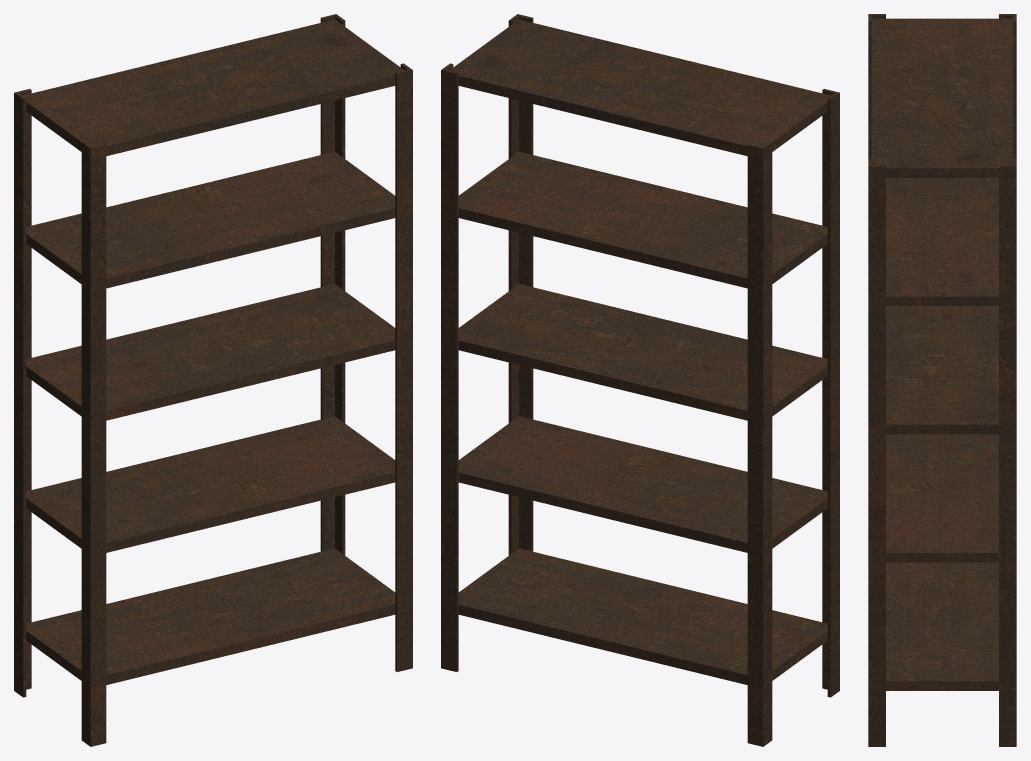
Rendered from shelf_mx_5.obj.
3 renders of one model, left to right at view 1: azimuth 30°, elevation 25°; view 2: azimuth 150°, elevation 25°; view 3: azimuth 270°, elevation 25°, orthographic. The views are drawn at different scales.
Visible parts, largest first — view 1: shelf_mx_5; view 2: shelf_mx_5; view 3: shelf_mx_5.
Boxes of the visible parts, x1=… form: shelf_mx_5: x1=14, y1=14, x2=412, y2=746; shelf_mx_5: x1=441, y1=14, x2=839, y2=746; shelf_mx_5: x1=868, y1=14, x2=1016, y2=746.
Size of the model in its own units: 1.02 by 1.81 by 0.42.
